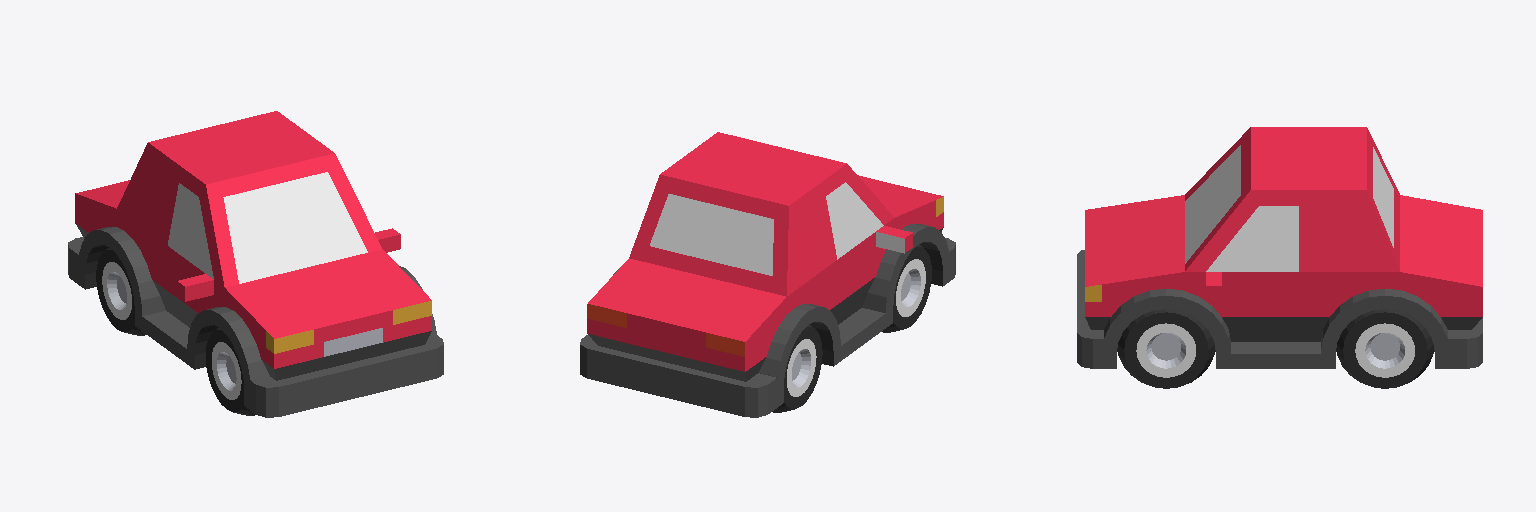
The model's file is sedan.obj.
The picture shows the model from 3 angles: view 1: azimuth 30°, elevation 25°; view 2: azimuth 150°, elevation 25°; view 3: azimuth 270°, elevation 25°; orthographic projection.
Parts seen in each view (by area): view 1: body, wheel_backRight, wheel_frontRight; view 2: body, wheel_frontRight, wheel_backRight; view 3: body, wheel_backLeft, wheel_frontLeft.
Part boxes in pixels (x1,y1,x2,y2): body: (68, 111, 443, 417); wheel_backRight: (96, 247, 145, 335); wheel_frontRight: (206, 327, 255, 415); body: (580, 132, 955, 417); wheel_frontRight: (882, 244, 931, 332); wheel_backRight: (772, 324, 822, 412); body: (1077, 127, 1482, 368); wheel_backLeft: (1336, 309, 1433, 388); wheel_frontLeft: (1117, 309, 1214, 388).
Size of the model in its own units: 1.5 by 1.3 by 2.45.